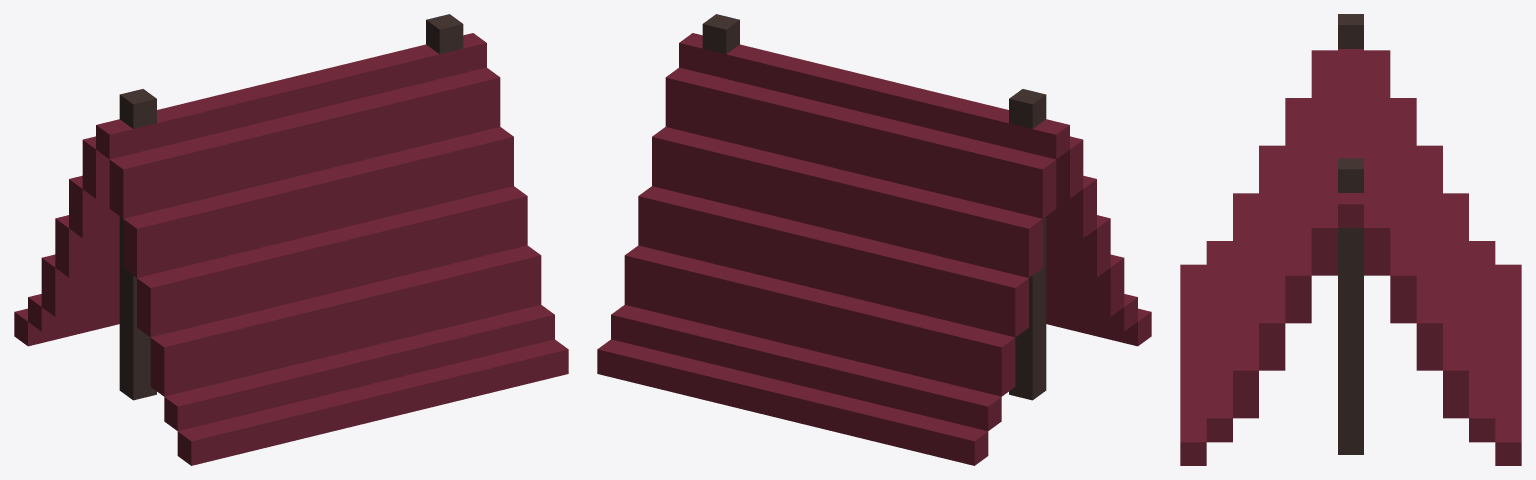
File: tent.obj
3 views of the same model, side by side, from view 1: azimuth 30°, elevation 25°; view 2: azimuth 150°, elevation 25°; view 3: azimuth 270°, elevation 25° (orthographic). The views are drawn at different scales.
Parts seen in each view (by area): view 1: tent_tent_0; view 2: tent_tent_0; view 3: tent_tent_0.
Boxes of the visible parts, <box> form: tent_tent_0: <box>14,14,568,465</box>; tent_tent_0: <box>597,14,1151,465</box>; tent_tent_0: <box>1180,14,1521,465</box>.
Size of the model in its own units: 16 by 12 by 13.
